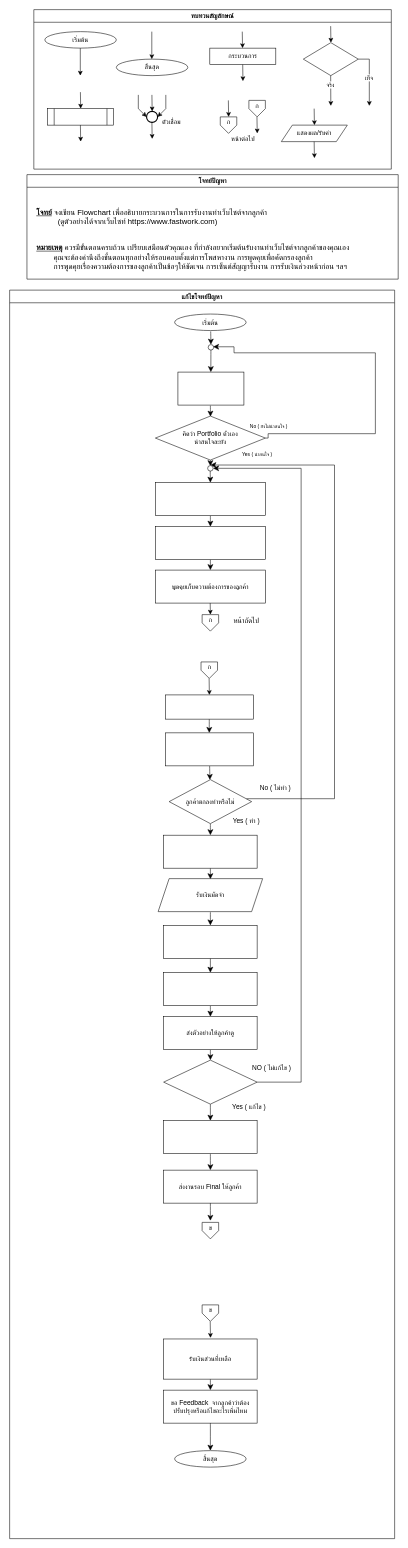
Image size: 408x1548. Some labels were removed from this diagram. Here are the shapes that lost their labels. From the top down, the centre of each, then its label:
At (330,59): "ประโยคเงื่อนไข".
At (80,116): "ฟังก์ชัน/โมดูล".
At (210,388): "จัดทำ Portfolio ให้น่าดึงดูดลูกค้าน่าสนใจ".
At (210,499): "โพสต์หางานบนแพลตฟอร์มโซเซียล เช่น fastwork , facebook , Linkedln".
At (210,543): "ลูกค้าทักมาติดต่อสอบถามจ้างงาน".
At (209,706): "วิเคราะห์งานและประเมิณราคา".
At (209,749): "เสนอราคาและเงื่อนไขในการทำงาน".
At (210,851): "ให้ลูกค้าเซ็นสัญญาพร้อมวางเงินมัดจำ".
At (210,941): "เริ่มทำงาน ออกแบบโครงร่างและเขียนเว็บ".
At (210,989): "รายงานความคืบหน้าให้ลูกค้า".
At (210,1082): "ลูกค้าต้องการแก้ไข".
At (210,1137): "แก้ไขตามจุดที่ลูกค้าต้องการให้แก้".
